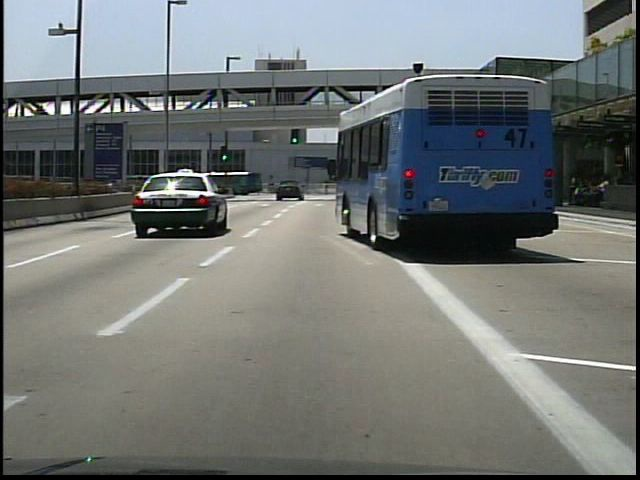person: (567, 170, 581, 205)
